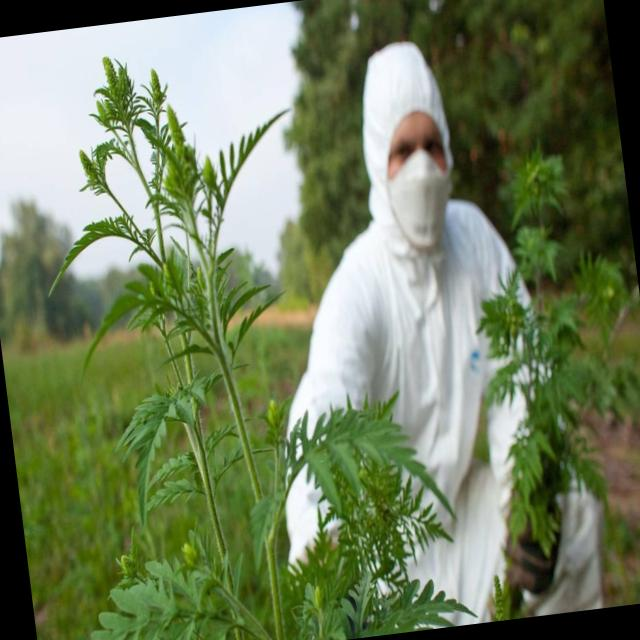ambrosia: (43, 24, 306, 406), (468, 124, 640, 539), (77, 523, 277, 640)
